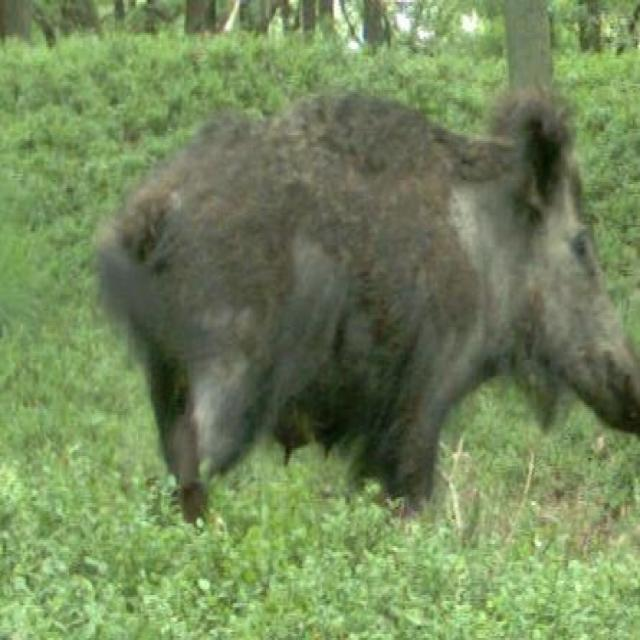pig: (97, 64, 640, 531)
